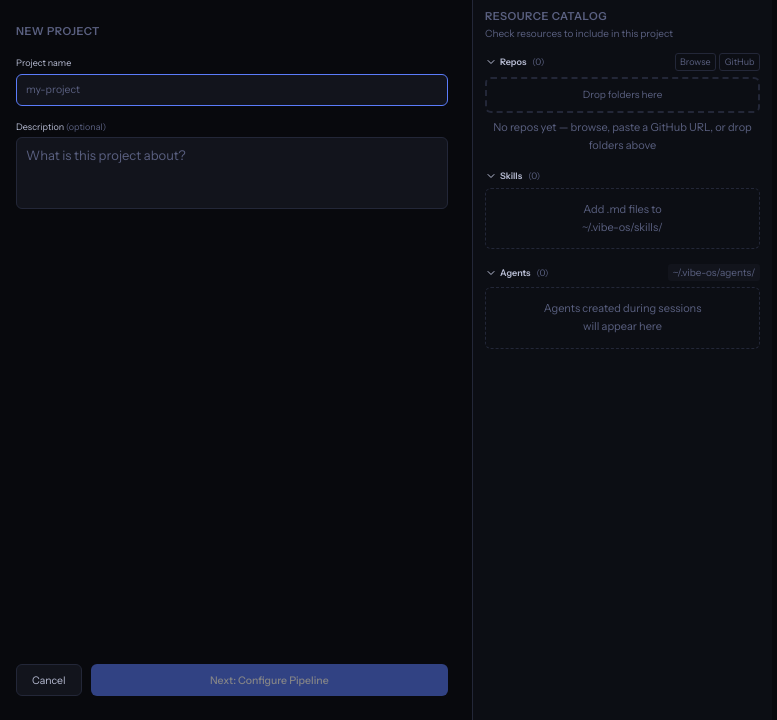
Test case: ProjectSetupView integration › Step 1 validation › enables 'Next: Configure Pipeline' when name is typed
The image size is (777, 720).
Type "cool-project" into the field with placeholder "my-project".
click(232, 90); type("cool-project")  # box [16,74,448,106]
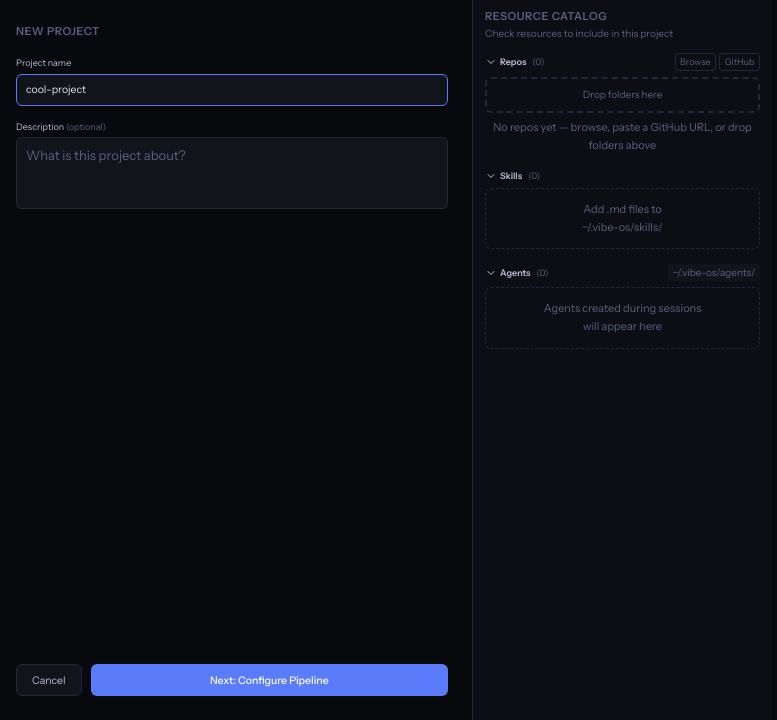
Expected: the button "Next: Configure Pipeline" is enabled, [90,664,448,696]
